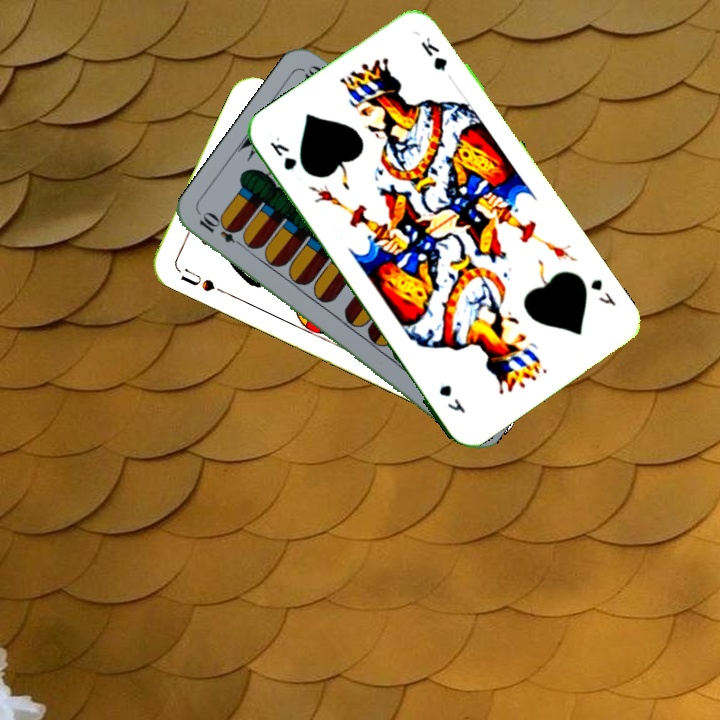E10: (195, 209, 249, 251)
GK: (265, 133, 300, 176), (586, 275, 619, 309)
SU: (176, 265, 228, 296)
